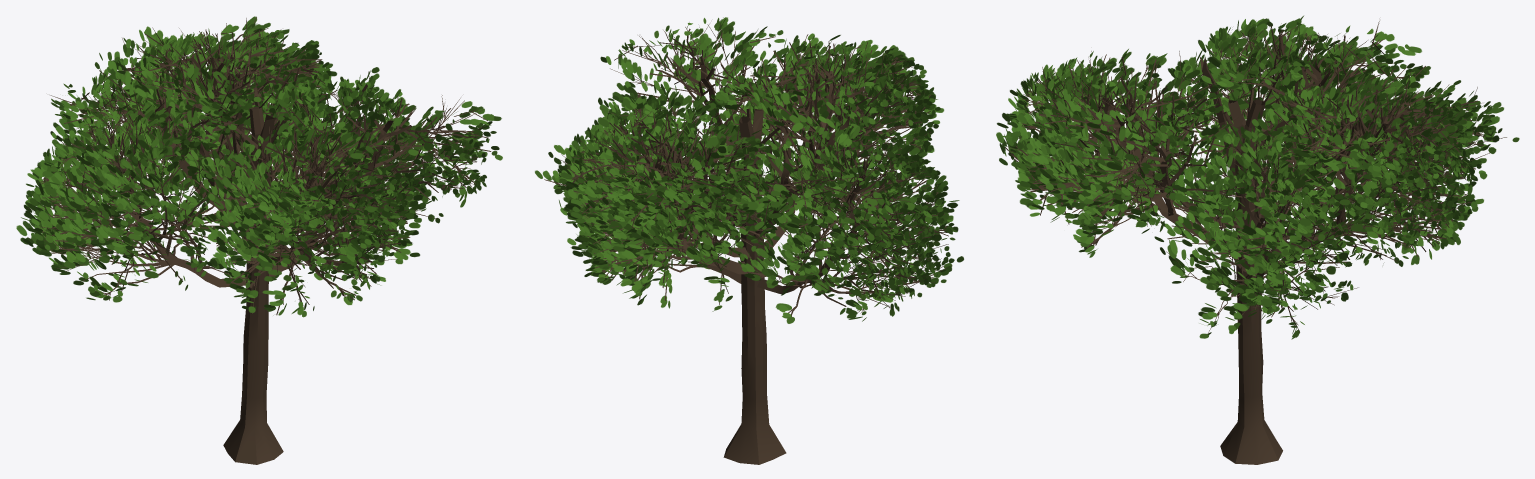
The picture shows the model from 3 angles, left to right: view 1: azimuth 30°, elevation 25°; view 2: azimuth 150°, elevation 25°; view 3: azimuth 270°, elevation 25°; orthographic projection. The views are drawn at different scales.
Visible parts, largest first — view 1: oak 01.001_trunk_Mat.001_0.114; view 2: oak 01.001_trunk_Mat.001_0.114; view 3: oak 01.001_trunk_Mat.001_0.114.
Boxes of the visible parts, bbox=[...] form: oak 01.001_trunk_Mat.001_0.114: bbox=[16, 16, 502, 464]; oak 01.001_trunk_Mat.001_0.114: bbox=[535, 17, 963, 464]; oak 01.001_trunk_Mat.001_0.114: bbox=[996, 15, 1519, 464].
Size of the model in its own units: 6.35 by 5.23 by 6.67.
2 materials, 1 textured.
